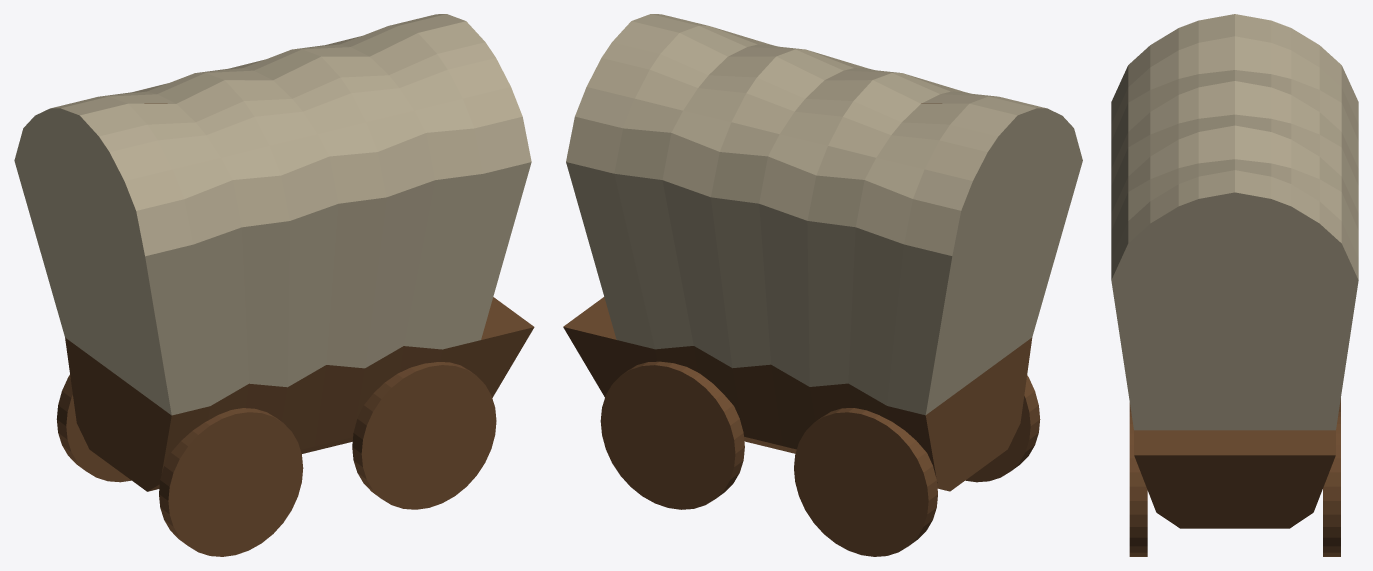
Rendered from wagon.fbx.
3 views of the same model, side by side, from view 1: azimuth 30°, elevation 25°; view 2: azimuth 150°, elevation 25°; view 3: azimuth 270°, elevation 25° (orthographic). The views are drawn at different scales.
Parts seen in each view (by area): view 1: Body, Cylinder.002, Cylinder.003, Cylinder.001; view 2: Body, Cylinder, Cylinder.001, Cylinder.003; view 3: Body, Cylinder.002, Cylinder.
Boxes of the visible parts, x1=… form: Body: x1=14, y1=14, x2=534, y2=491; Cylinder.002: x1=352, y1=362, x2=496, y2=509; Cylinder.003: x1=159, y1=408, x2=303, y2=556; Cylinder.001: x1=56, y1=375, x2=131, y2=482; Body: x1=563, y1=14, x2=1082, y2=491; Cylinder: x1=600, y1=361, x2=744, y2=509; Cylinder.001: x1=794, y1=408, x2=937, y2=556; Cylinder.003: x1=965, y1=375, x2=1040, y2=482; Body: x1=1111, y1=14, x2=1358, y2=528; Cylinder.002: x1=1129, y1=410, x2=1147, y2=556; Cylinder: x1=1323, y1=410, x2=1340, y2=556.
Bounding box in the file's own units: 208 × 209 × 117.
